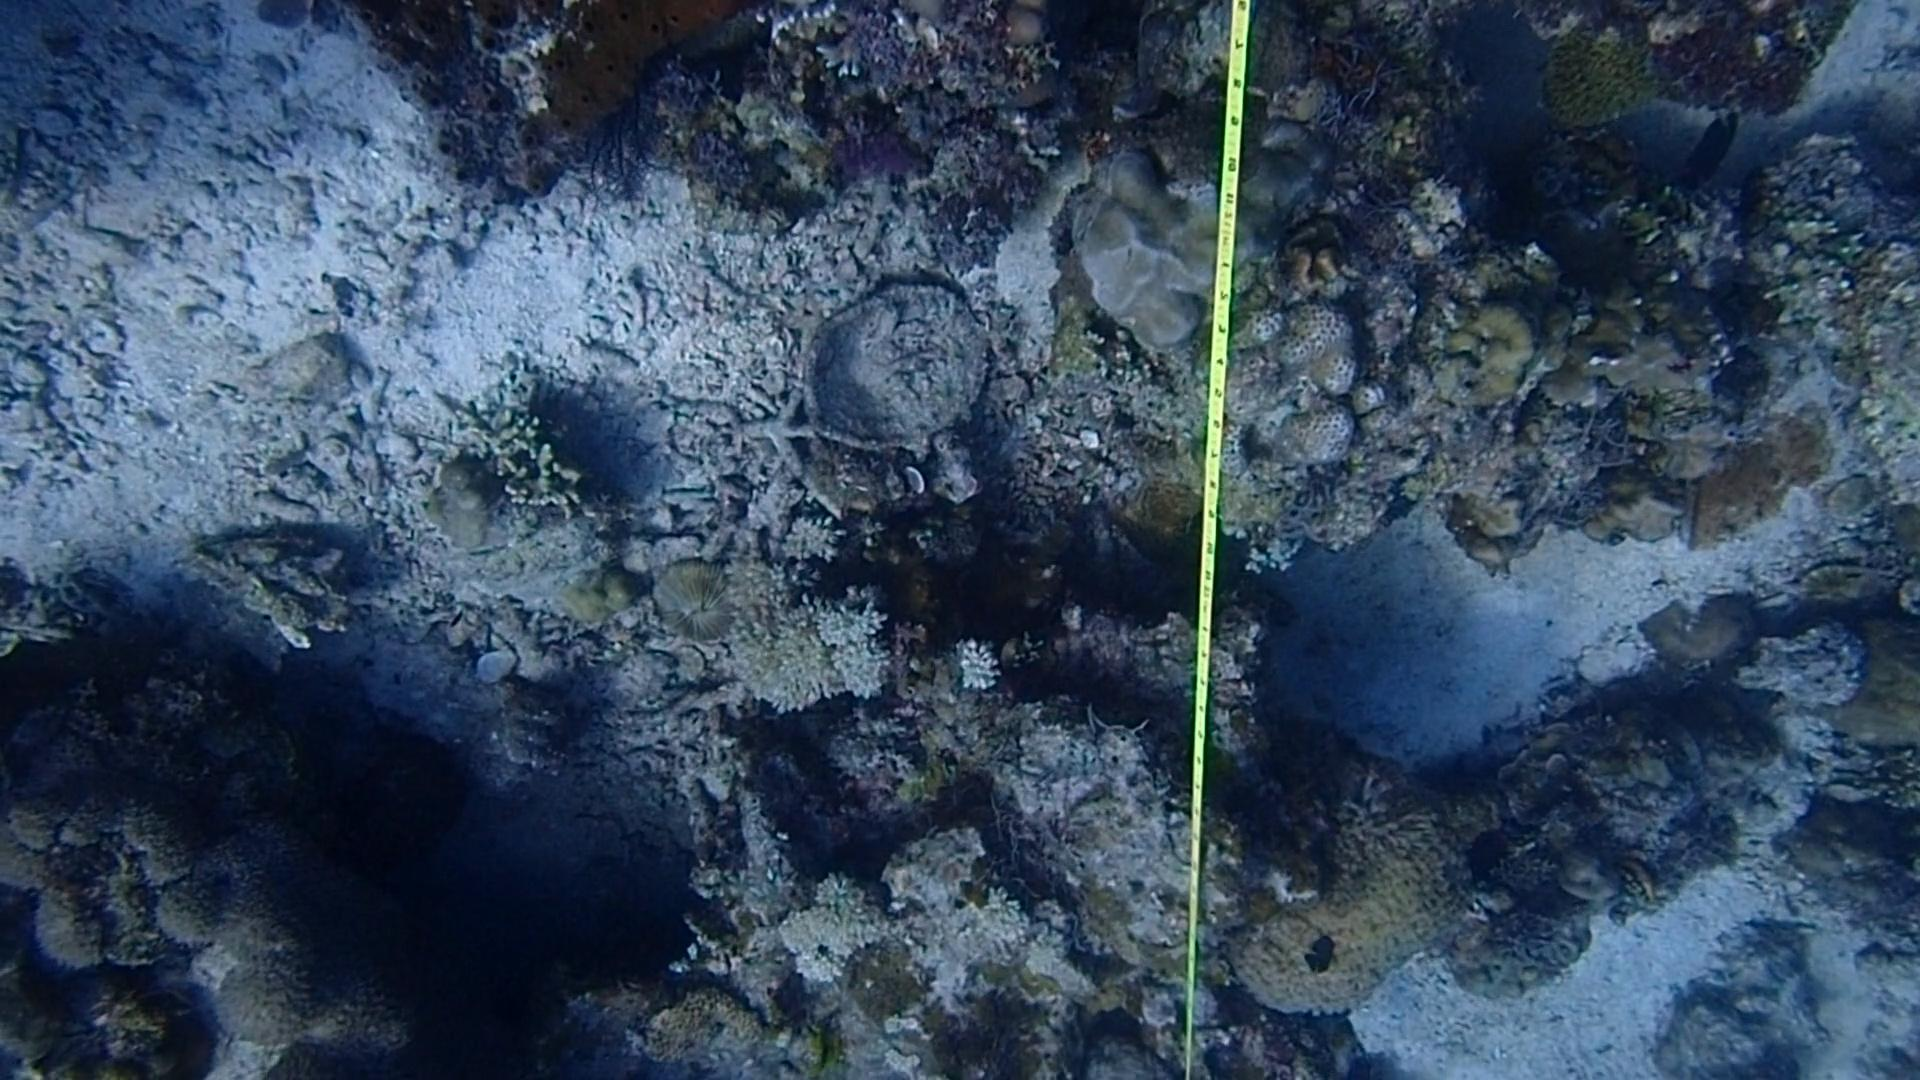Dark Fish: (1662, 100, 1743, 210), (1451, 824, 1527, 887), (1292, 924, 1344, 989)
